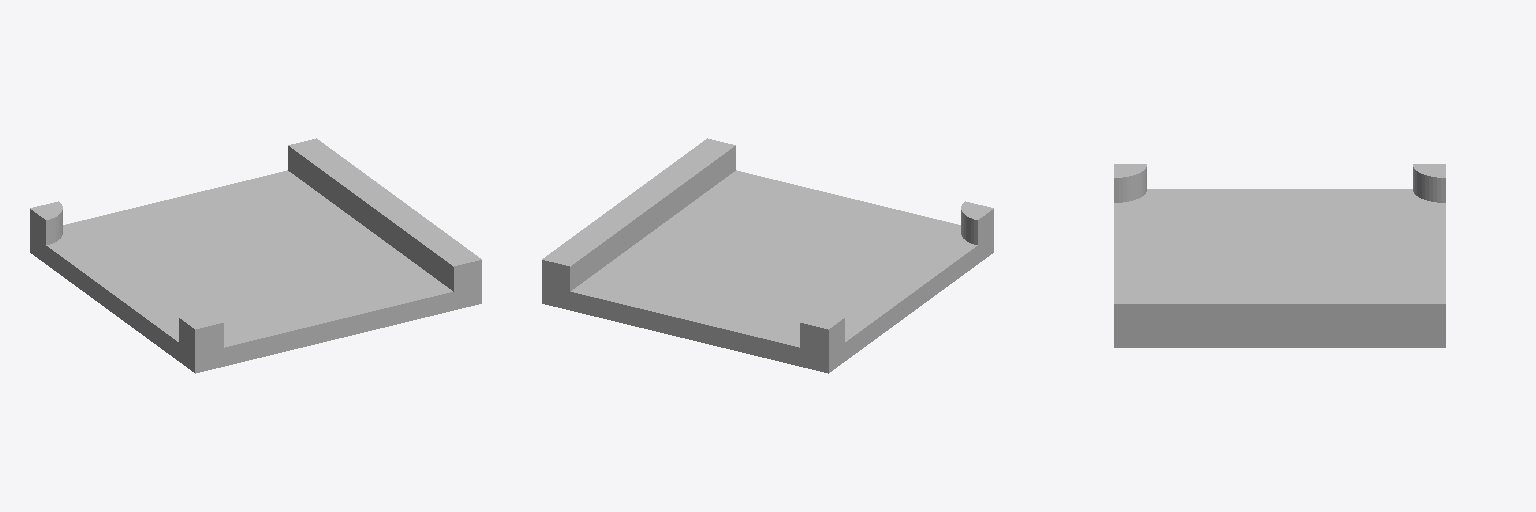
The model's file is splitT.obj.
3 views of the same model, side by side, from view 1: azimuth 30°, elevation 25°; view 2: azimuth 150°, elevation 25°; view 3: azimuth 270°, elevation 25° (orthographic).
Visible parts, largest first — view 1: splitT; view 2: splitT; view 3: splitT.
Boxes of the visible parts, box(x1,y1,x2,y2) form: splitT: box(30, 138, 481, 373); splitT: box(542, 138, 993, 373); splitT: box(1114, 164, 1445, 347).
Size of the model in its own units: 0.9999 by 0.1467 by 0.9999.